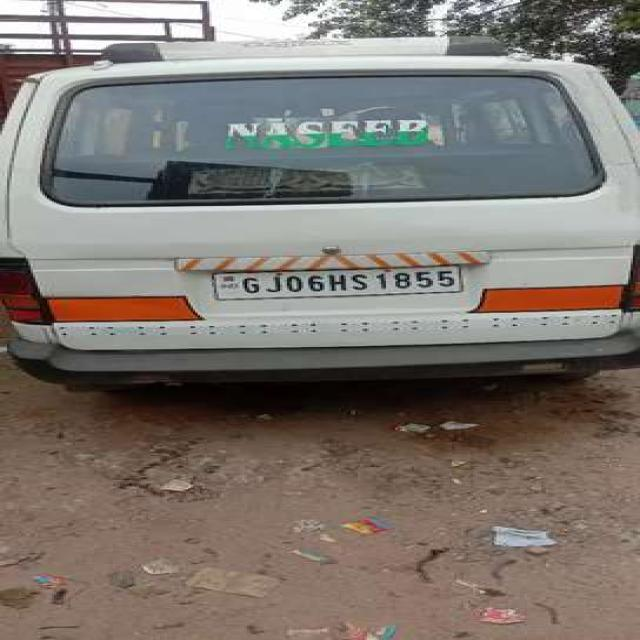licenseplate: (213, 266, 465, 299)
